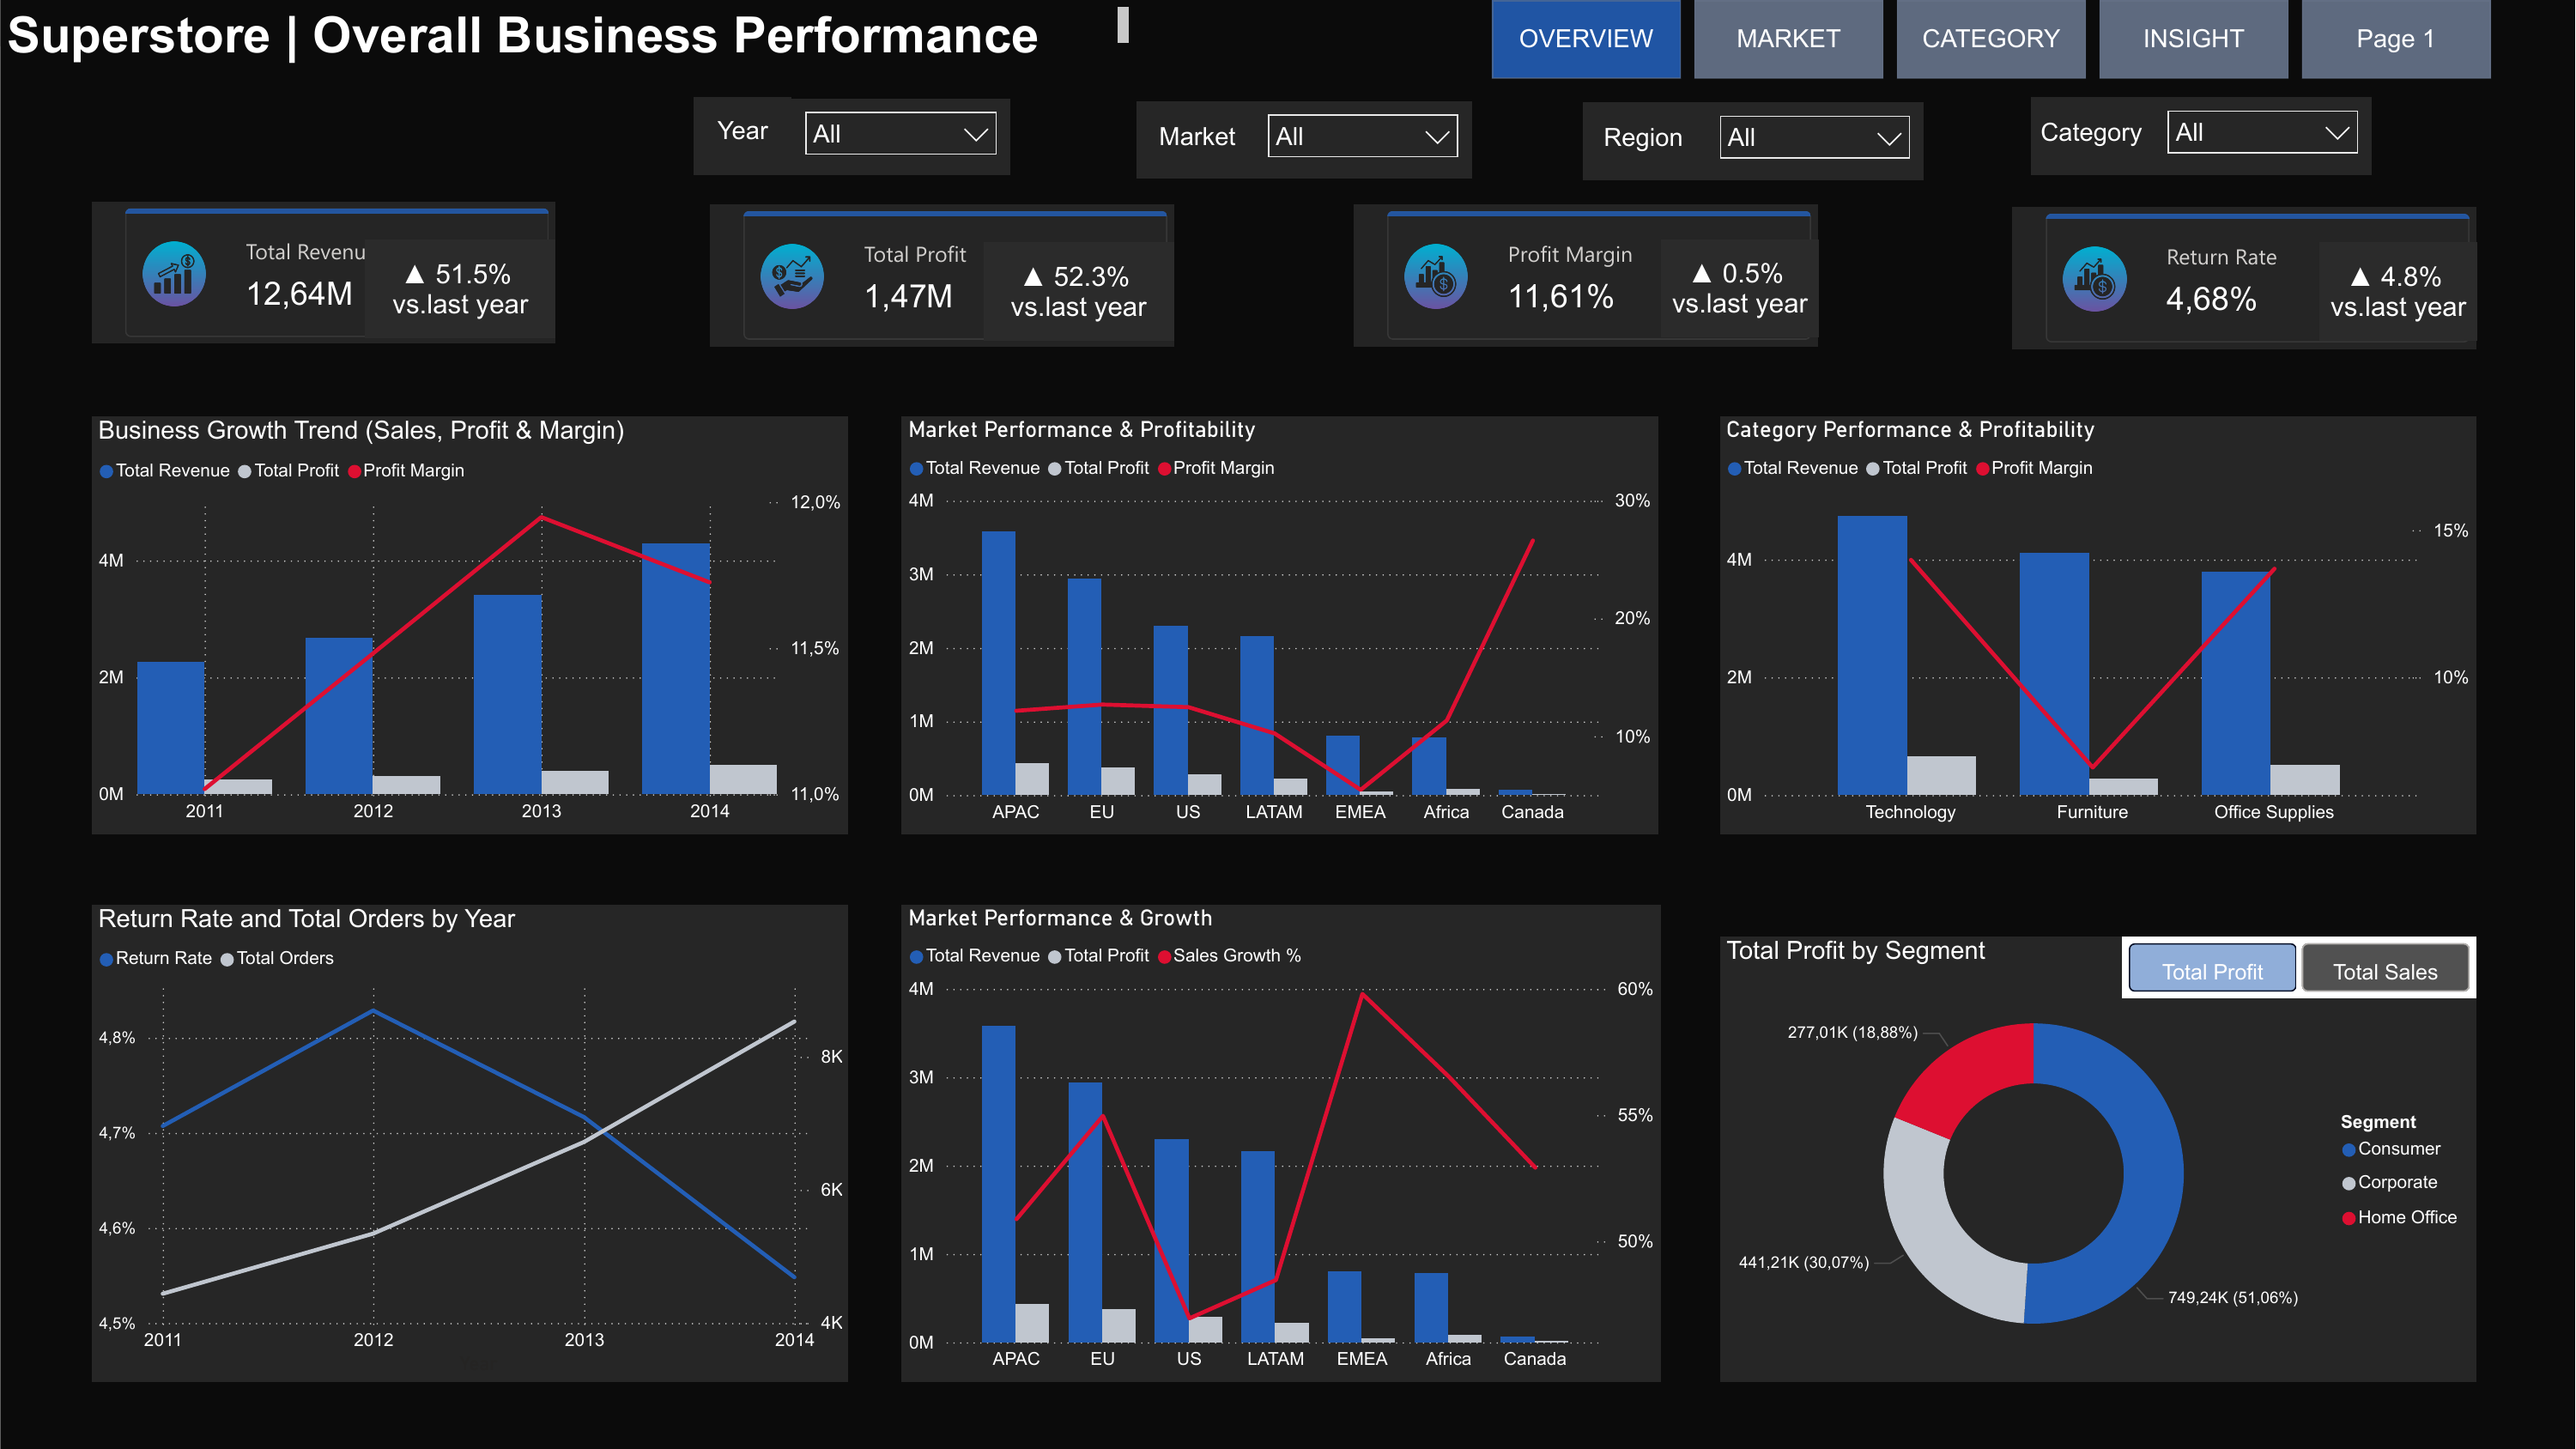

The page's visual inventory and layout, read from the dashboard file:
{"tool":"powerbi","page":{"name":"OVERVIEW","canvas":[1920,1080],"ordinal":0},"visuals":[{"type":"cardVisual","title":"Total Sales","fields":{"Data":["_Measure.Total Sales"]},"box":[68,150,346,106],"z":0},{"type":"textbox","box":[516.7,71.7,73.3,58.3],"z":1000},{"type":"textbox","box":[0,0,846,58],"z":2000},{"type":"card","fields":{"Values":["_Measure.Sales YoY Display"]},"box":[272,178,142,74],"z":3000},{"type":"pageNavigator","box":[1112,0,748,58],"z":4000},{"type":"slicer","fields":{"Values":["Dim_date.Date.Variation.Date Hierarchy.Year"]},"box":[590,72.5,162.5,57.5],"z":5000},{"type":"textbox","box":[846.7,75,93.3,58.3],"z":6000},{"type":"slicer","fields":{"Values":["Order.Market"]},"box":[935,75,161.7,58.3],"z":7000},{"type":"textbox","box":[1180,76,92,58],"z":8000},{"type":"slicer","fields":{"Values":["Order.Region"]},"box":[1272,76,162,58],"z":9000},{"type":"cardVisual","title":"Total Sales","fields":{"Data":["_Measure.Total Profit"]},"box":[529.2,152,346,106],"z":10000},{"type":"card","fields":{"Values":["_Measure.Profit YoY Display"]},"box":[733.2,180,142,74],"z":11000},{"type":"cardVisual","title":"Total Sales","fields":{"Data":["_Measure.Profit Margin"]},"box":[1008.8,151.6,346,106],"z":12000},{"type":"card","fields":{"Values":["_Measure.Margin YoY Display"]},"box":[1237.9,177.5,118.3,73.3],"z":13000},{"type":"textbox","box":[1514,72,92,58],"z":14000},{"type":"slicer","fields":{"Values":["Order.Category"]},"box":[1606,72,162,58],"z":15000},{"type":"cardVisual","title":"Total Sales","fields":{"Data":["Return.Return Rate"]},"box":[1499.6,154.4,346,106],"z":16000},{"type":"card","fields":{"Values":["Return.Return YoY Display"]},"box":[1728.7,180.3,118.3,73.3],"z":17000},{"type":"lineClusteredColumnComboChart","title":"Business Growth Trend (Sales, Profit & Margin)","fields":{"Y":["_Measure.Total Revenue","_Measure.Total Profit"],"Y2":["_Measure.Profit Margin"],"Category":["Dim_date.Date.Variation.Date Hierarchy.Year"]},"box":[68,310,564,312],"z":18000},{"type":"lineClusteredColumnComboChart","title":"Market Performance & Profitability","fields":{"Y":["_Measure.Total Revenue","_Measure.Total Profit"],"Y2":["_Measure.Profit Margin"],"Category":["Order.Market"]},"box":[672,310,564,312],"z":19000},{"type":"donutChart","fields":{"Y":["_Measure.Total Profit"],"Category":["Order.Segment"]},"box":[1282,698,564,332],"z":20000},{"type":"lineClusteredColumnComboChart","title":"Category Performance & Profitability","fields":{"Y":["_Measure.Total Revenue","_Measure.Total Profit"],"Y2":["_Measure.Profit Margin"],"Category":["Order.Category"]},"box":[1282,310,564,312],"z":21000},{"type":"advancedSlicerVisual","fields":{"Values":["Parameter.Parameter"]},"box":[1582,698,264,46],"z":22000},{"type":"lineChart","fields":{"Y":["Return.Return Rate"],"Category":["Dim_date.Date.Variation.Date Hierarchy.Year"],"Y2":["Return.Total Orders"]},"box":[68,674,564,356],"z":23000},{"type":"lineClusteredColumnComboChart","title":"Market Performance & Growth","fields":{"Y":["_Measure.Total Revenue","_Measure.Total Profit"],"Category":["Order.Market"],"Y2":["_Measure.Sales Growth %"]},"box":[672,674,566,356],"z":24000}]}

Visuals, with their boxes in screenshot pixels (x1, y1, x2, y2), scaled from the page's 1920x1080 canvas onto the 2576x1449 screenshot:
"Total Sales" cardVisual: BBox(91, 201, 555, 343)
textbox: BBox(694, 96, 791, 174)
textbox: BBox(0, 0, 1135, 78)
card - _Measure.Sales YoY Display: BBox(365, 239, 555, 338)
pageNavigator: BBox(1492, 0, 2495, 78)
slicer - Dim_date.Date.Variation.Date Hierarchy.Year: BBox(791, 97, 1009, 174)
textbox: BBox(1136, 100, 1261, 179)
slicer - Order.Market: BBox(1254, 100, 1471, 179)
textbox: BBox(1583, 102, 1706, 179)
slicer - Order.Region: BBox(1706, 102, 1924, 179)
"Total Sales" cardVisual: BBox(710, 204, 1174, 346)
card - _Measure.Profit YoY Display: BBox(984, 241, 1174, 341)
"Total Sales" cardVisual: BBox(1354, 203, 1818, 346)
card - _Measure.Margin YoY Display: BBox(1661, 238, 1820, 336)
textbox: BBox(2031, 97, 2155, 174)
slicer - Order.Category: BBox(2155, 97, 2372, 174)
"Total Sales" cardVisual: BBox(2012, 207, 2476, 349)
card - Return.Return YoY Display: BBox(2319, 242, 2478, 340)
"Business Growth Trend (Sales, Profit & Margin)" lineClusteredColumnComboChart: BBox(91, 416, 848, 834)
"Market Performance & Profitability" lineClusteredColumnComboChart: BBox(901, 416, 1658, 834)
donutChart - _Measure.Total Profit x Order.Segment: BBox(1720, 937, 2476, 1382)
"Category Performance & Profitability" lineClusteredColumnComboChart: BBox(1720, 416, 2476, 834)
advancedSlicerVisual - Parameter.Parameter: BBox(2123, 937, 2476, 998)
lineChart - Return.Return Rate x Dim_date.Date.Variation.Date Hierarchy.Year: BBox(91, 904, 848, 1382)
"Market Performance & Growth" lineClusteredColumnComboChart: BBox(901, 904, 1661, 1382)
